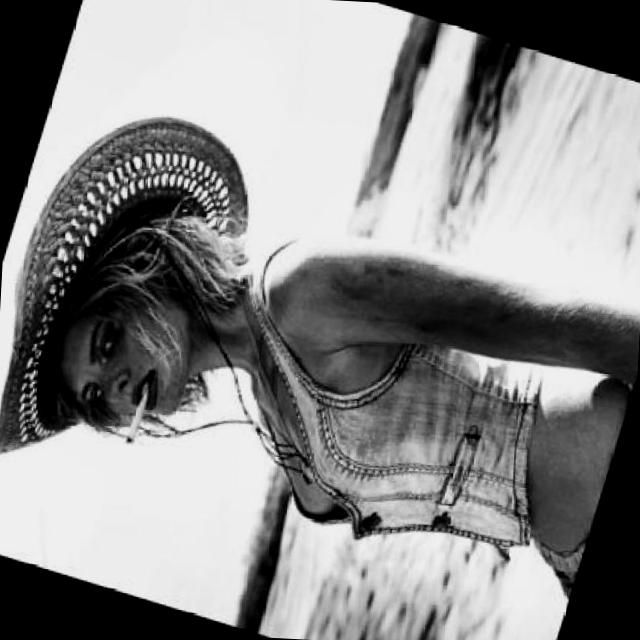cigarette: (120, 384, 155, 454)
